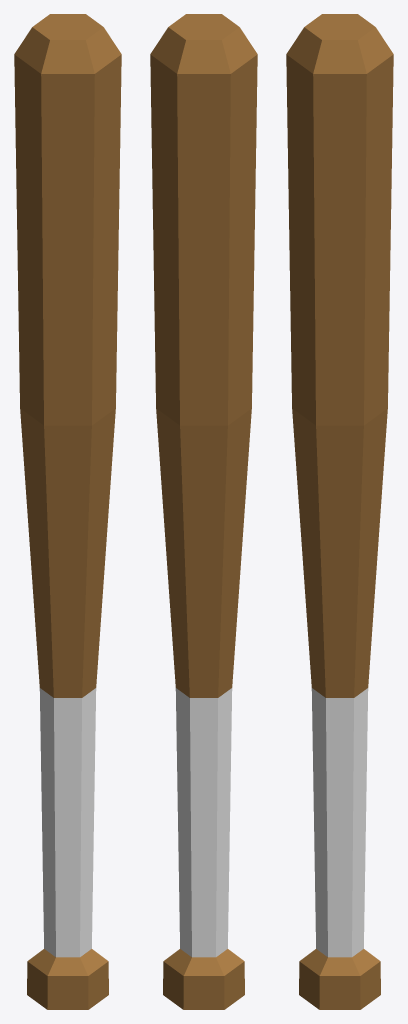
The model's file is sport-baseball-bat.glb.
3 renders of one model, left to right at view 1: azimuth 90°, elevation 25°; view 2: azimuth 150°, elevation 25°; view 3: azimuth 270°, elevation 25°, orthographic.
Visible parts, largest first — view 1: baseball-bat; view 2: baseball-bat; view 3: baseball-bat.
Boxes of the visible parts, x1,y1,x2,y2 form: baseball-bat: [14, 14, 121, 1009]; baseball-bat: [150, 14, 257, 1009]; baseball-bat: [286, 14, 393, 1009].
Size of the model in its own units: 0.0707 by 0.812 by 0.0817.
